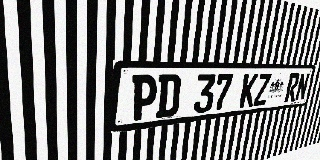3: (193, 74, 216, 114)
7: (212, 74, 234, 111)
D: (156, 74, 182, 118)
K: (239, 73, 258, 108)
N: (295, 73, 310, 101)
P: (130, 75, 158, 121)
R: (284, 73, 300, 103)
Z: (253, 73, 272, 106)
